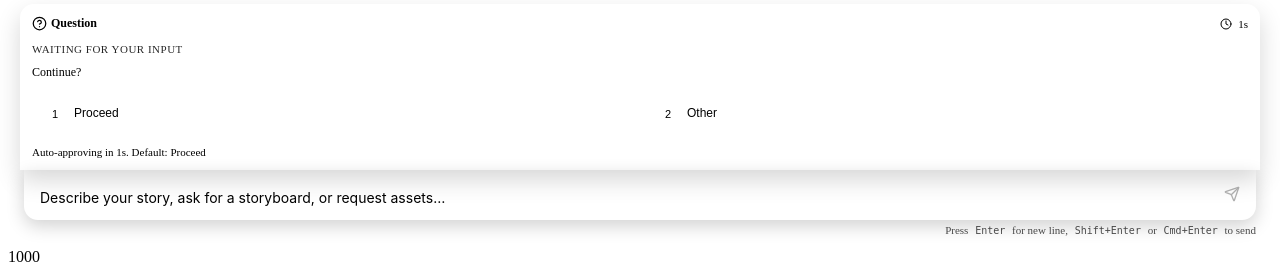
Test case: useQuestionTimerCancellation › cancels the active timer on early composer interaction
The image size is (1280, 279).
Step 1. Focus the text box named "Chat input" → (620, 197), box [32,183,1208,212]
Wait 1000 ms
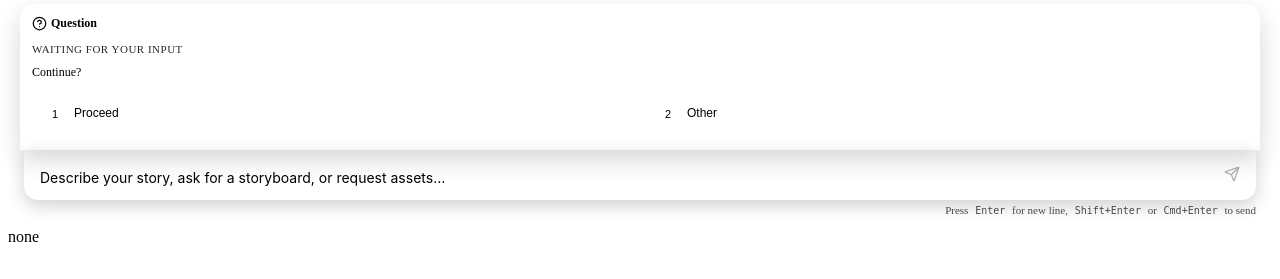
Expected: the text with test id "effective-timeout" reads "none", [8,228,39,245]
